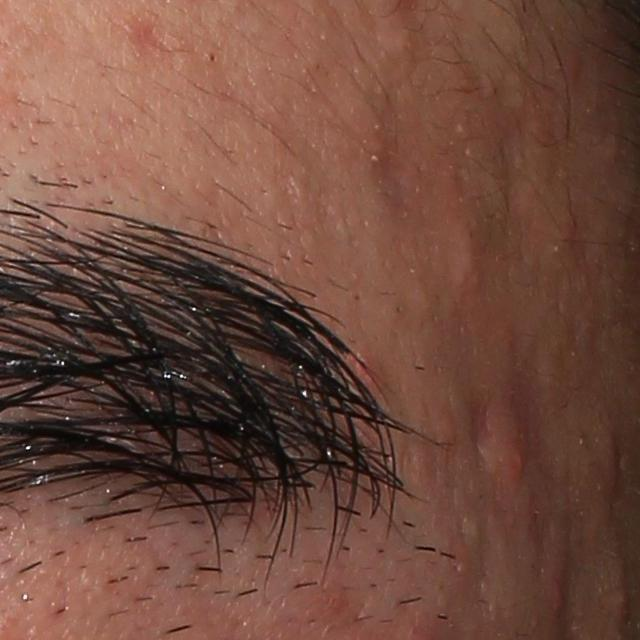comedo: (206, 48, 222, 65)
papule: (436, 215, 499, 304), (493, 424, 533, 494), (541, 567, 573, 625), (602, 436, 630, 496)
